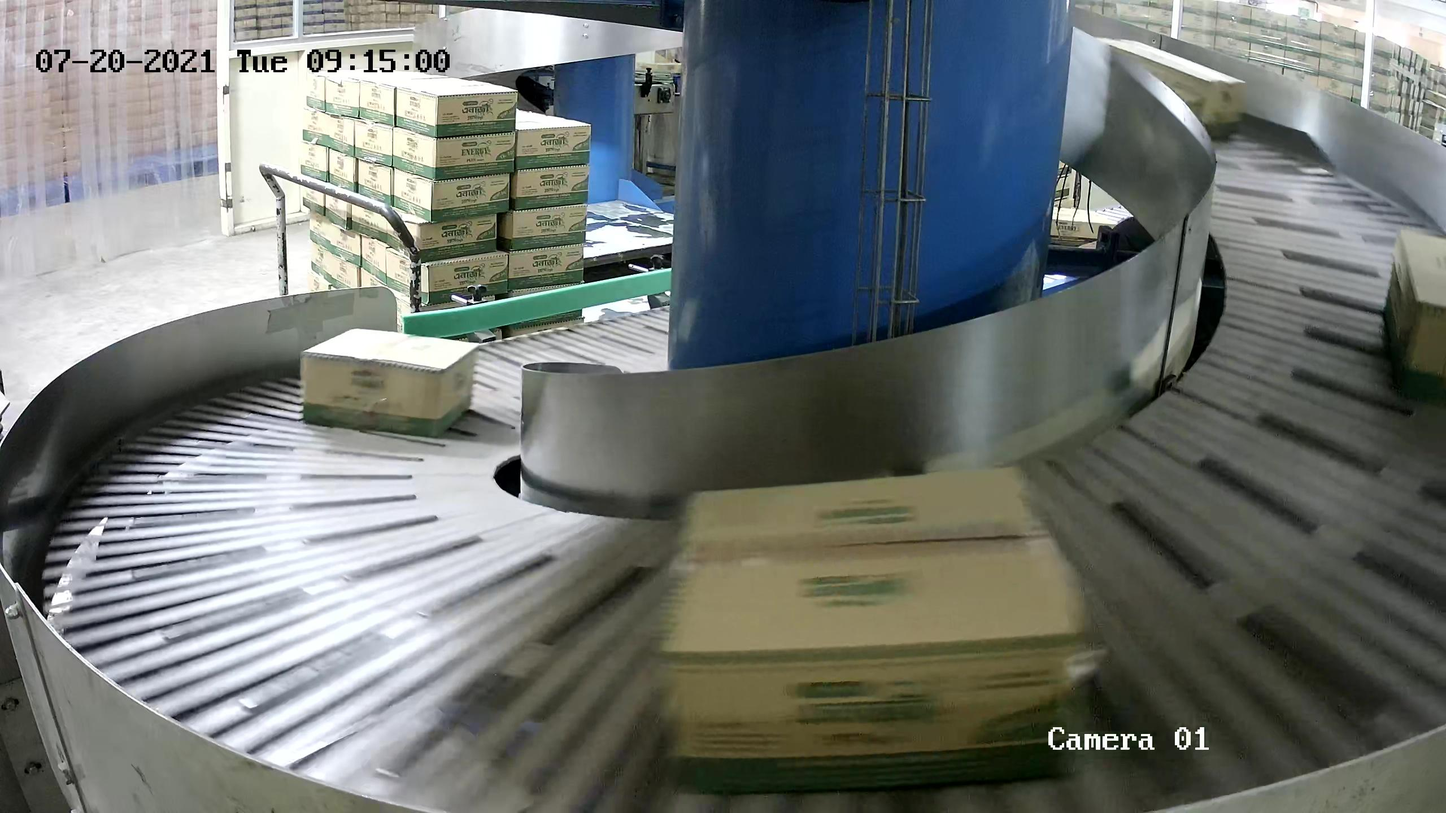Box: (648, 459, 1107, 796), (298, 327, 482, 439), (1092, 35, 1248, 134), (1381, 227, 1446, 401)
